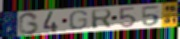4: (43, 10, 60, 33)
5: (141, 4, 161, 27), (119, 6, 138, 29)
G: (17, 11, 40, 35), (68, 10, 89, 31)
R: (91, 8, 114, 30)
